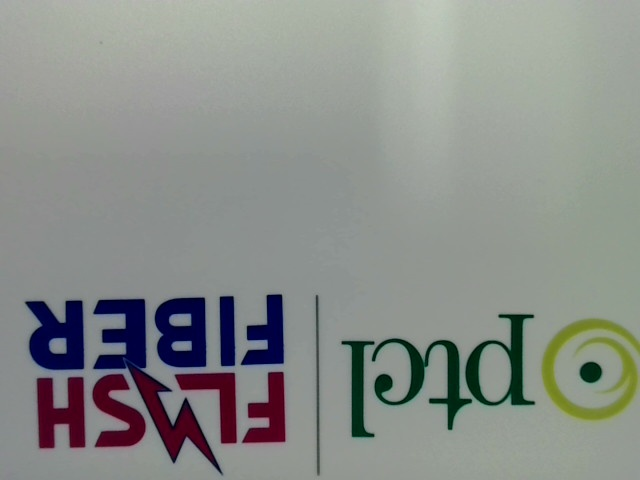BF_PTCL: (328, 302, 639, 446)
